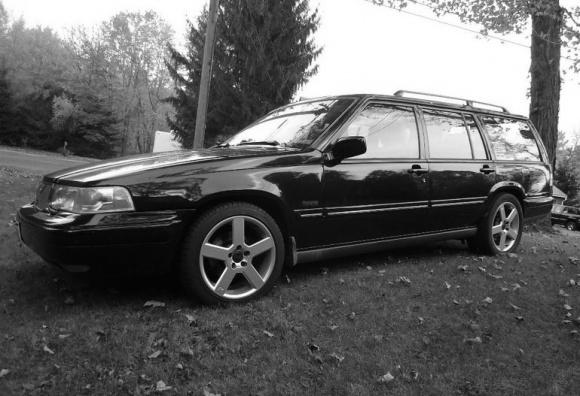car: (17, 89, 557, 310)
